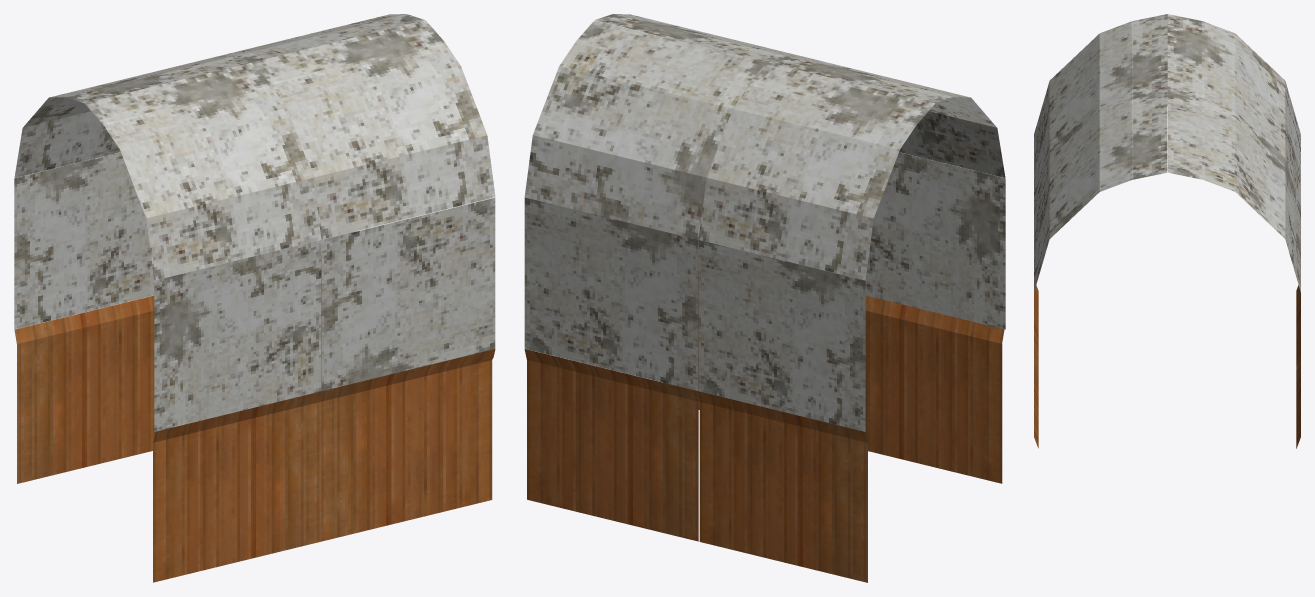
Rendered from straightHallwayPiece.fbx.
3 renders of one model, left to right at view 1: azimuth 30°, elevation 25°; view 2: azimuth 150°, elevation 25°; view 3: azimuth 270°, elevation 25°, orthographic. The views are drawn at different scales.
Visible parts, largest first — view 1: StraightHallway; view 2: StraightHallway; view 3: StraightHallway.
Part boxes in pixels (x1,y1,x2,y2): StraightHallway: (14, 14, 495, 582); StraightHallway: (524, 14, 1005, 582); StraightHallway: (1034, 14, 1300, 448).
Size of the model in its own units: 204 by 246 by 145.
